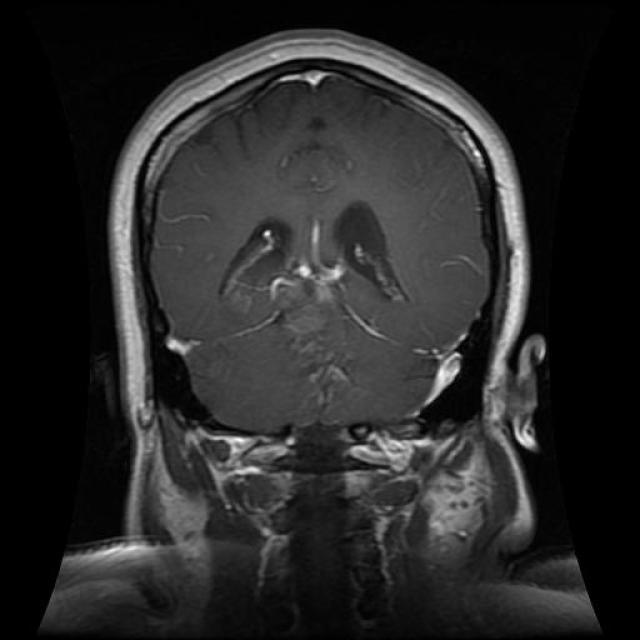glioma: (225, 200, 410, 316)
